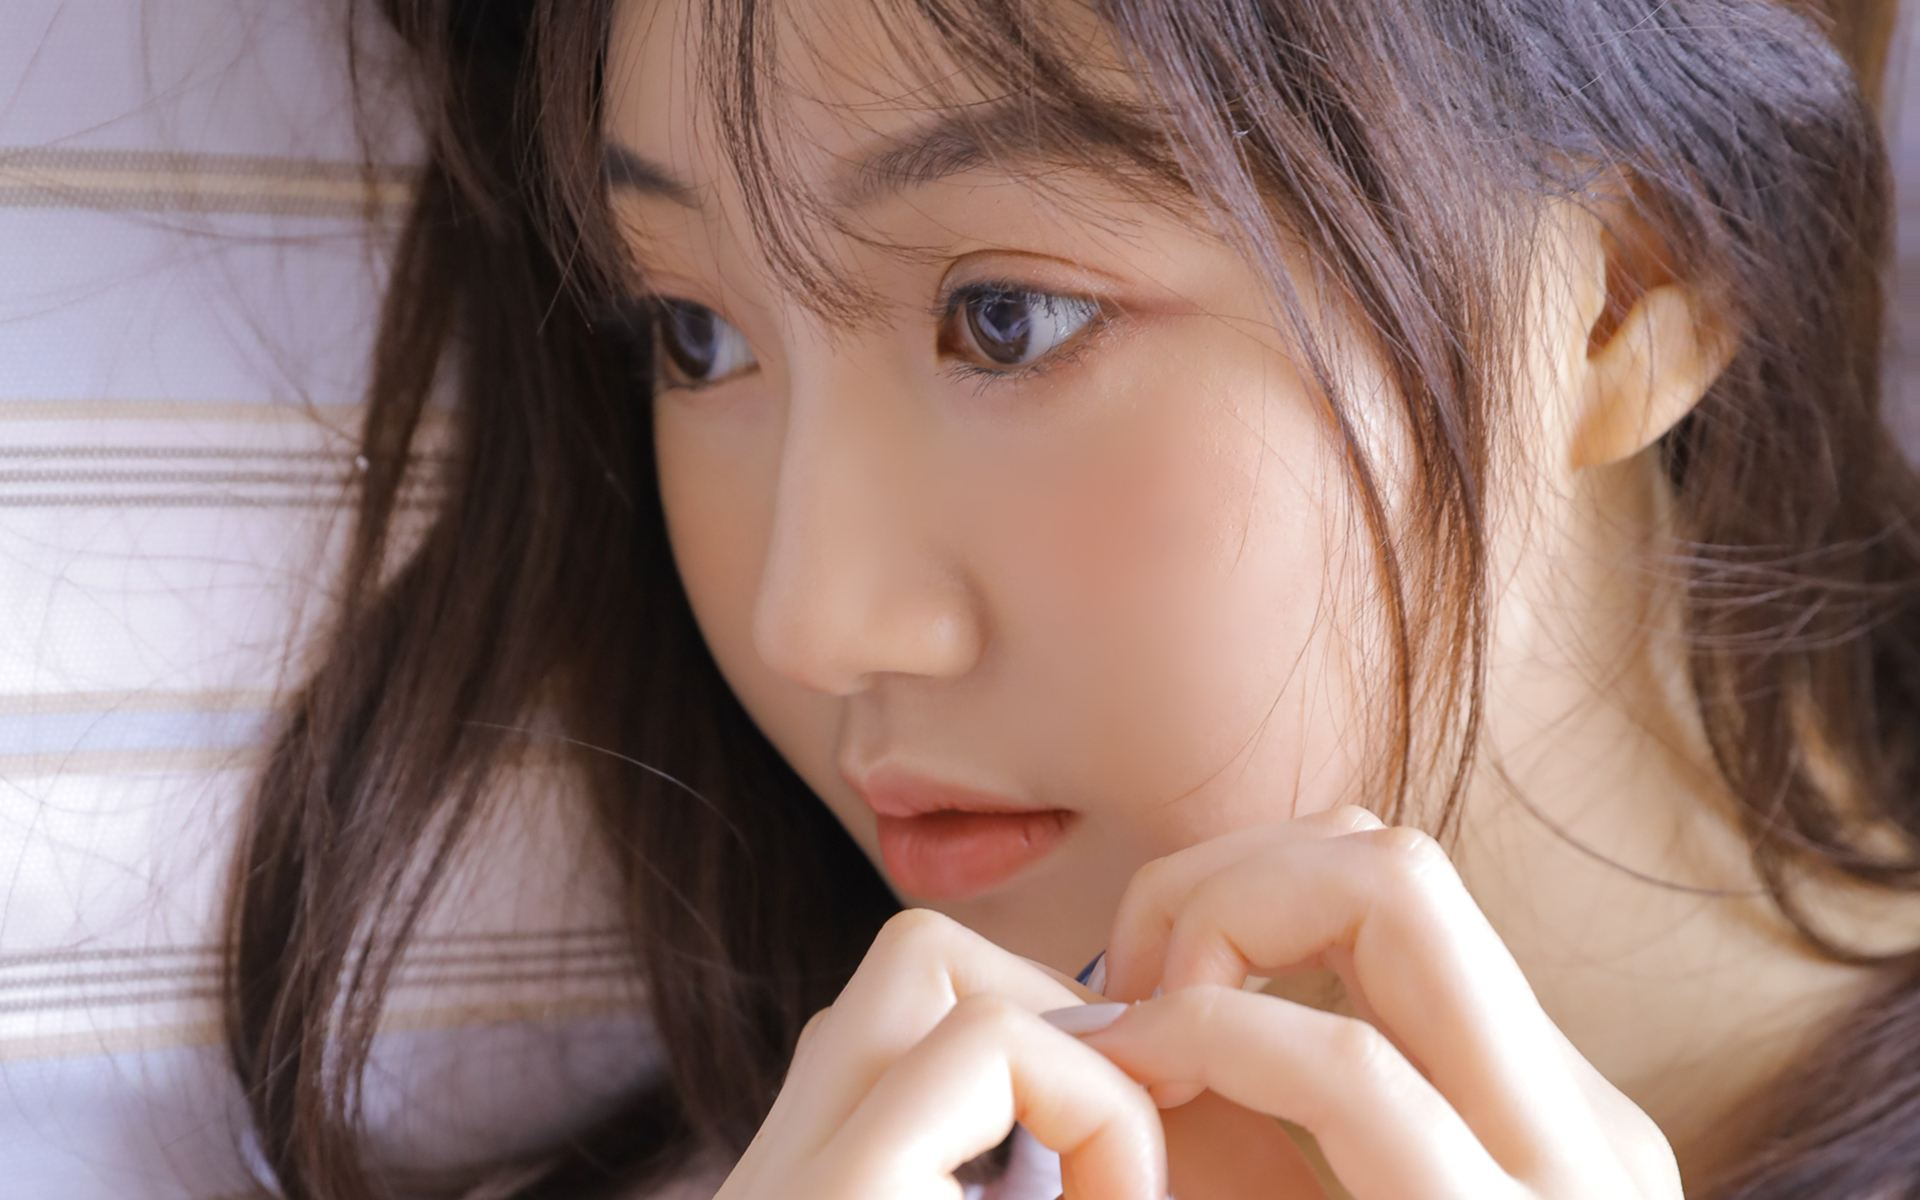person: (244, 17, 1711, 1062)
